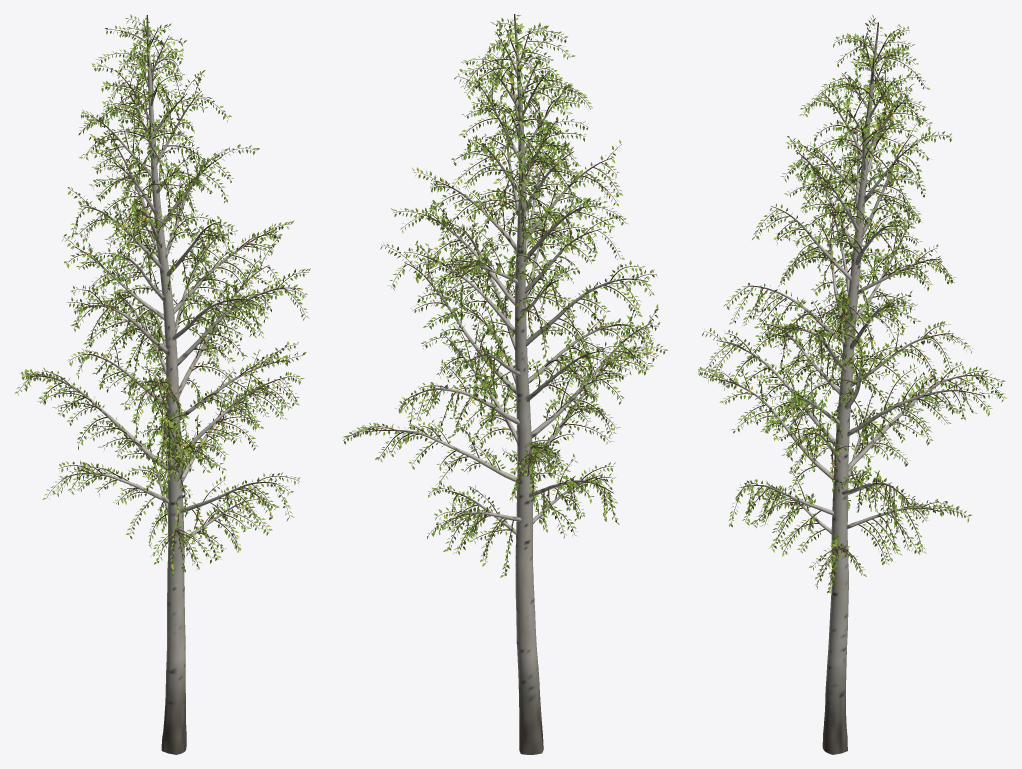
The model's file is silver_birch.glb.
3 views of the same model, side by side, from view 1: azimuth 30°, elevation 25°; view 2: azimuth 150°, elevation 25°; view 3: azimuth 270°, elevation 25° (orthographic). The views are drawn at different scales.
Parts seen in each view (by area): view 1: silver_birch; view 2: silver_birch; view 3: silver_birch.
Part boxes in pixels (x1,y1,x2,y2): silver_birch: (15,14,310,754); silver_birch: (343,14,667,754); silver_birch: (698,15,1006,754).
Bounding box in the file's own units: 5.67 × 15.77 × 6.12.
